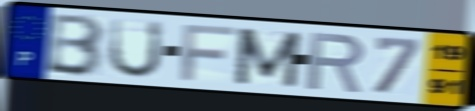7: (372, 34, 423, 97)
B: (43, 12, 107, 79)
F: (179, 23, 238, 83)
M: (232, 26, 305, 90)
R: (304, 30, 368, 95)
U: (105, 16, 166, 80)
